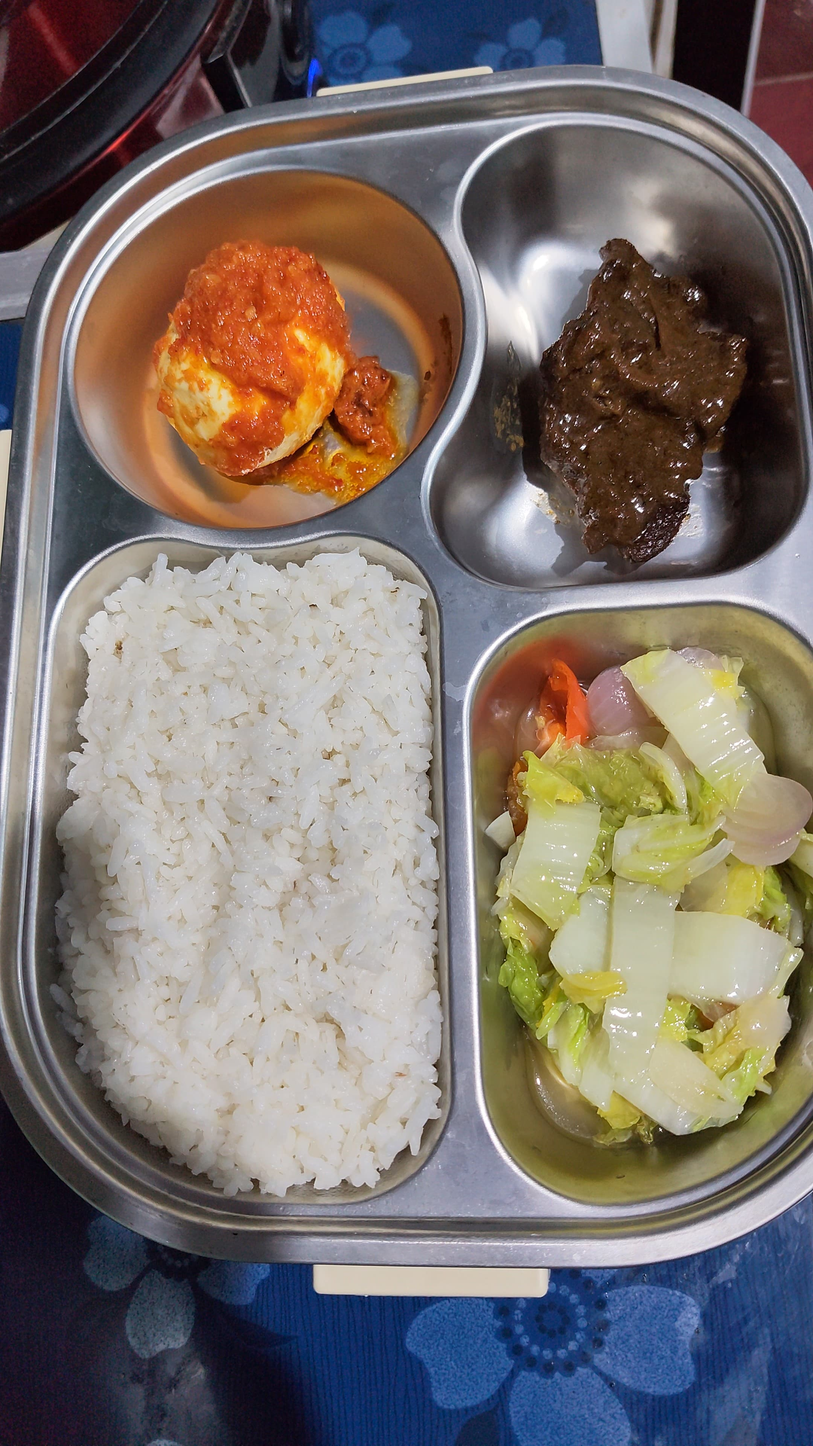buah_sayur_lainnya: (499, 680, 787, 1139)
daging: (546, 284, 725, 557)
makanan_berpati: (79, 572, 427, 1226)
